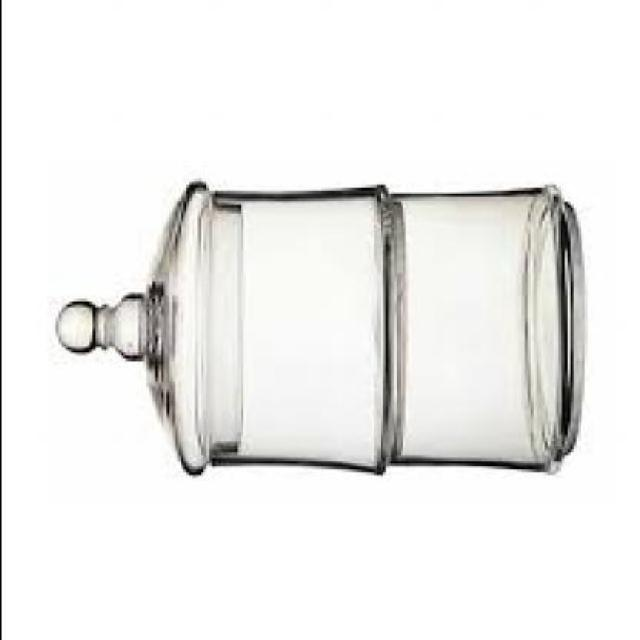GLASS: (51, 179, 580, 475)
